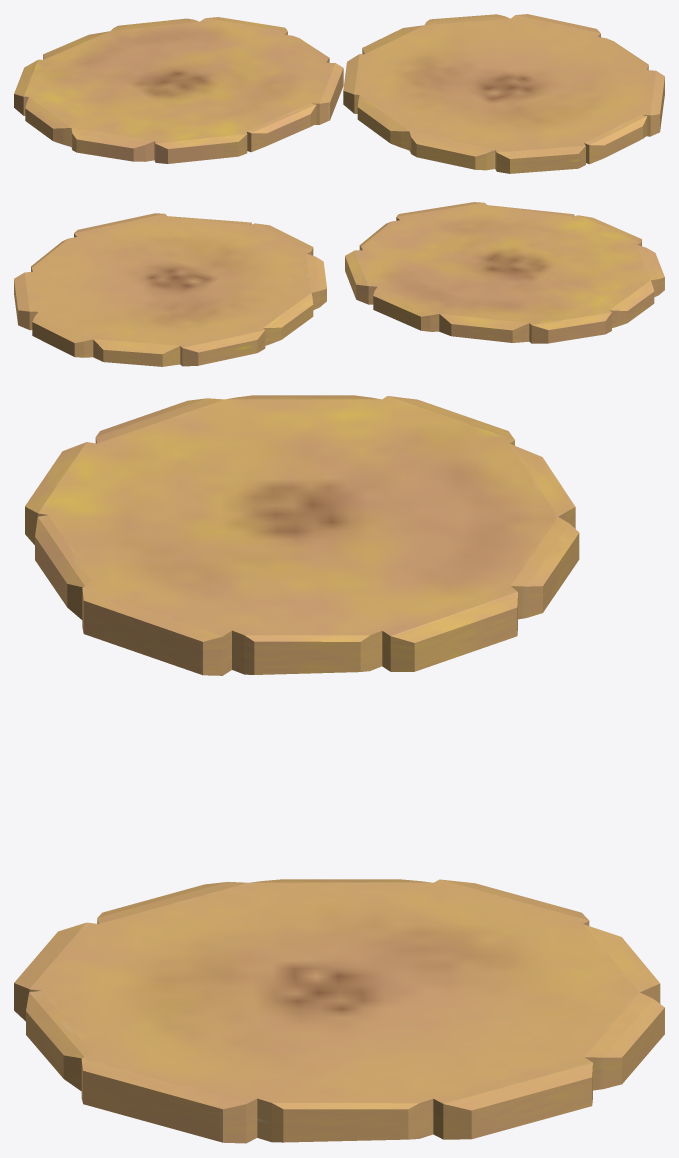
Rendered from pataconcrudo.fbx.
3 views of the same model, one above another, from view 1: azimuth 30°, elevation 25°; view 2: azimuth 150°, elevation 25°; view 3: azimuth 270°, elevation 25° (orthographic). The views are drawn at different scales.
Parts seen in each view (by area): view 1: crudo2, crudo1; view 2: crudo2, crudo1; view 3: crudo2, crudo1.
Boxes of the visible parts, x1,y1,x2,y2 form: crudo2: [343, 14, 664, 173]; crudo1: [14, 17, 343, 163]; crudo2: [14, 213, 326, 366]; crudo1: [345, 202, 664, 343]; crudo2: [14, 879, 664, 1143]; crudo1: [25, 395, 579, 675].
Size of the model in its own units: 179 by 32.16 by 90.11.
